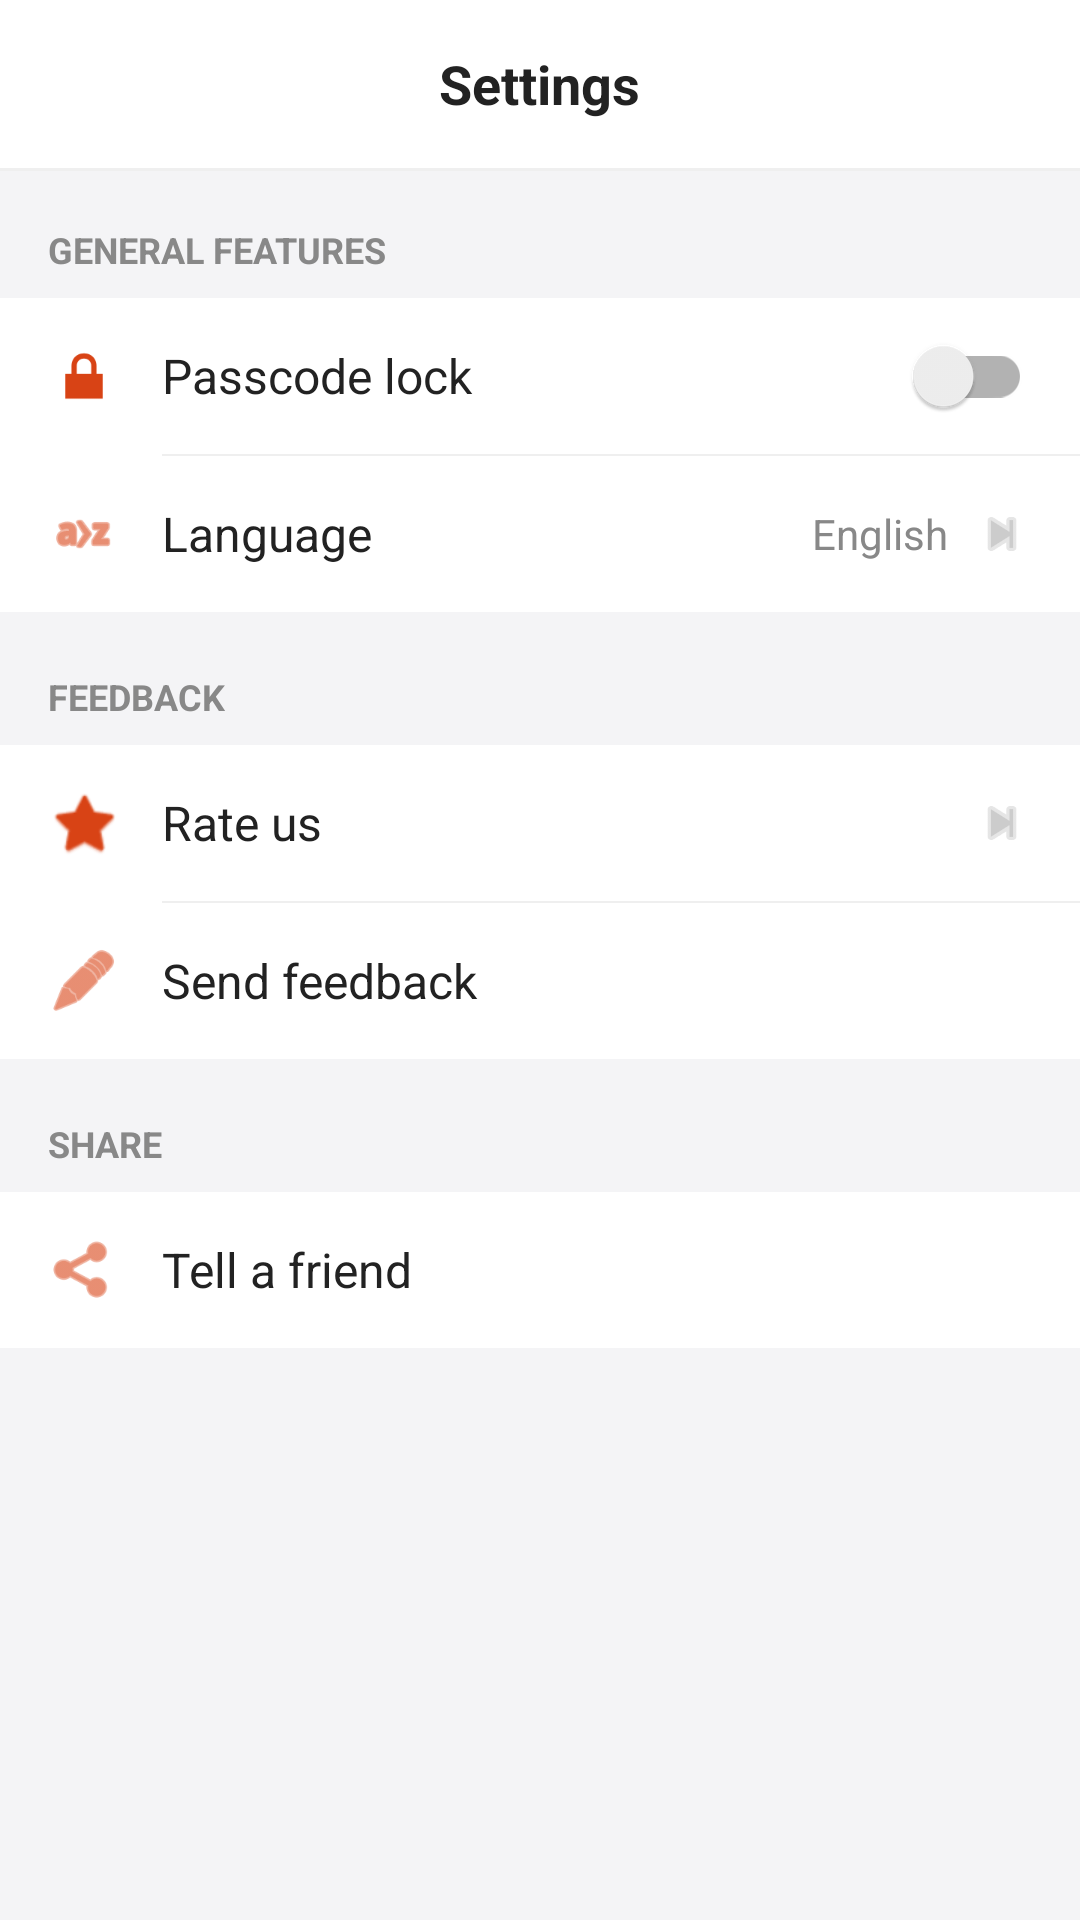

Named icons in this screenshot (1080 x 1920) and their bounding boxes, (x1, y1, x2, y2):
Next: (988, 517, 1016, 551), (988, 806, 1016, 840)
